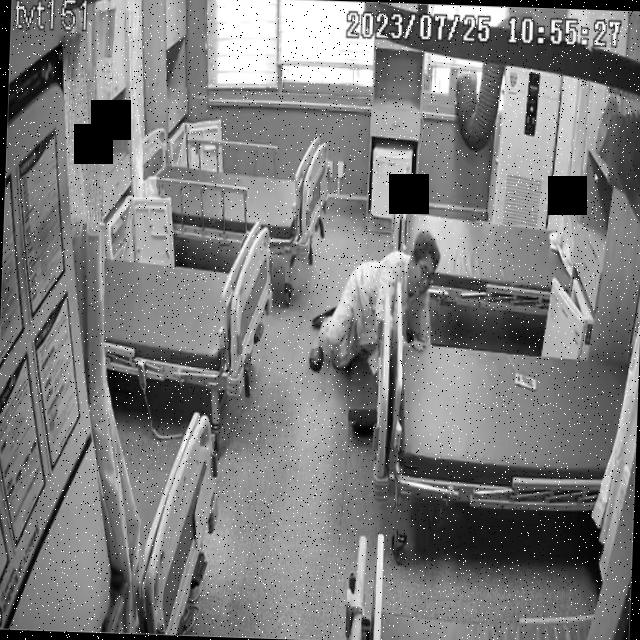bed: (390, 329, 630, 512), (100, 215, 278, 398), (138, 128, 327, 255), (389, 186, 574, 313)
fall: (308, 225, 441, 378)
patient: (308, 226, 440, 378)
